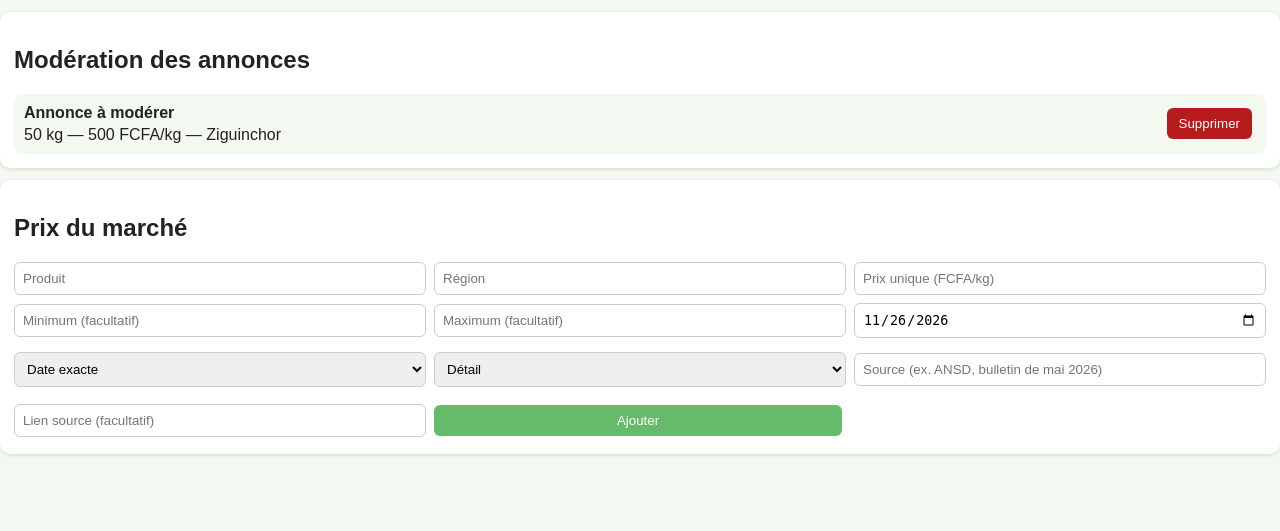
Test case: Admin › affiche une erreur et conserve l'annonce si la suppression échoue
Expected: the text "Annonce à modérer" is shown, [24,104,174,121]
Click the button "Supprimer".
click(1209, 124)  # box [1166,108,1252,139]
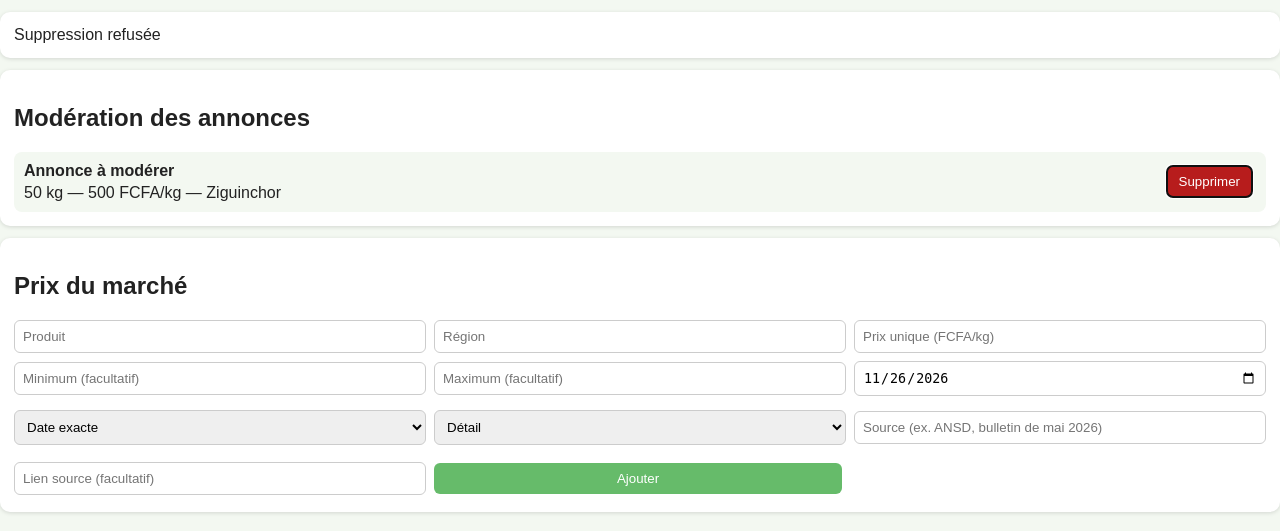
Expected: the text "Annonce à modérer" is shown, [24,162,174,179]
Expected: the message "Suppression refusée" is shown, [0,12,1279,58]
Expected: the message reads "Suppression refusée", [14,26,161,43]
